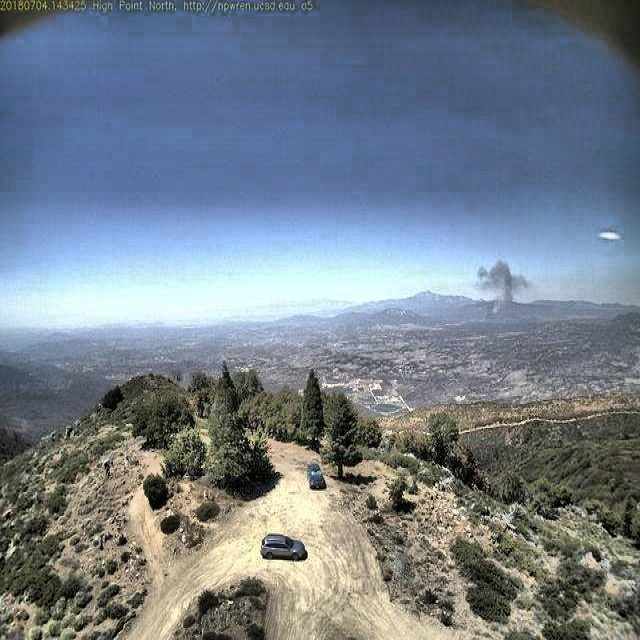smoke: (472, 255, 534, 325)
